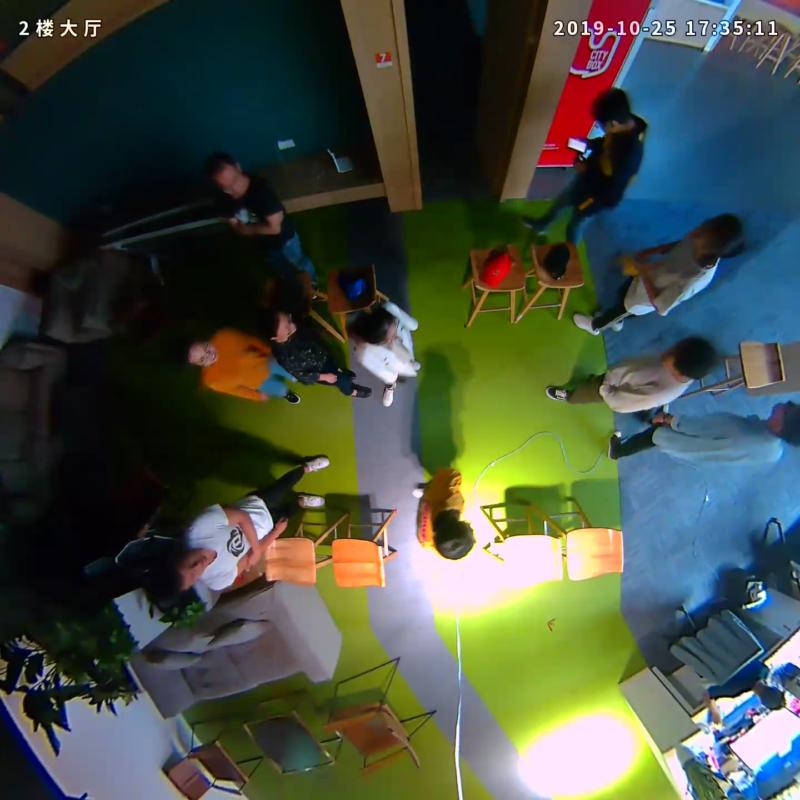head: (143, 547, 213, 602), (690, 213, 747, 259), (663, 335, 719, 381), (354, 307, 402, 349), (588, 88, 630, 136), (433, 520, 475, 561), (207, 153, 245, 197), (771, 398, 800, 448), (176, 335, 220, 367), (258, 311, 298, 344)
